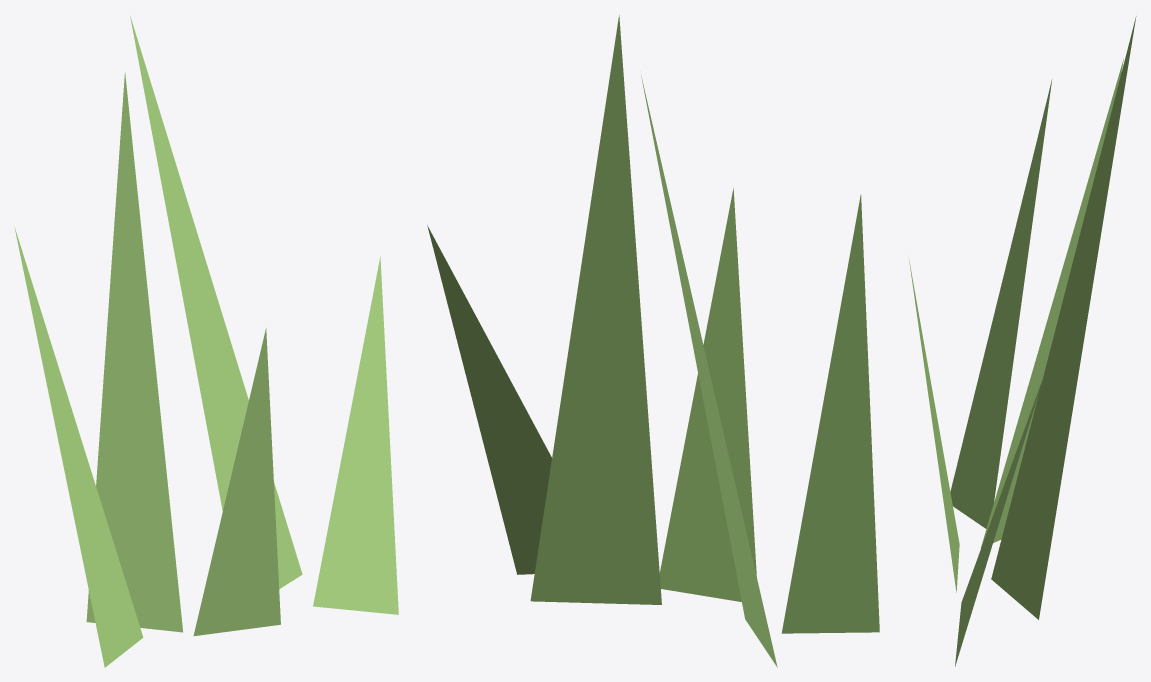
File: Grass_c_OneS_04.fbx
3 renders of one model, left to right at view 1: azimuth 30°, elevation 25°; view 2: azimuth 150°, elevation 25°; view 3: azimuth 270°, elevation 25°, orthographic. The views are drawn at different scales.
Visible parts, largest first — view 1: Grass_c_OneS_04; view 2: Grass_c_OneS_04; view 3: Grass_c_OneS_04.
Boxes of the visible parts, x1,y1,x2,y2 form: Grass_c_OneS_04: (14,15,398,667); Grass_c_OneS_04: (427,15,879,667); Grass_c_OneS_04: (908,16,1136,666).
Bounding box in the file's own units: 42.07 × 63.79 × 23.21.
